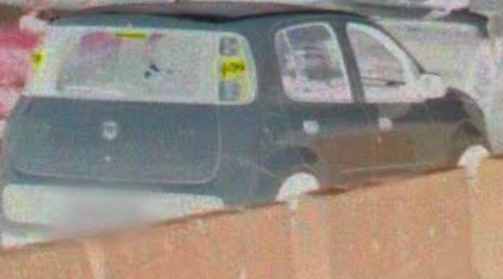car: (11, 6, 493, 170)
